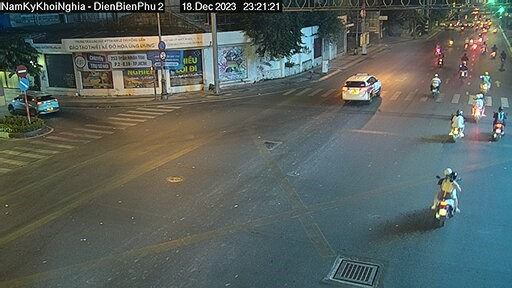car: (336, 66, 378, 112), (13, 85, 62, 115)
motorbike: (431, 166, 465, 218), (446, 106, 468, 140), (490, 105, 504, 144), (470, 92, 486, 125), (431, 75, 444, 100)
